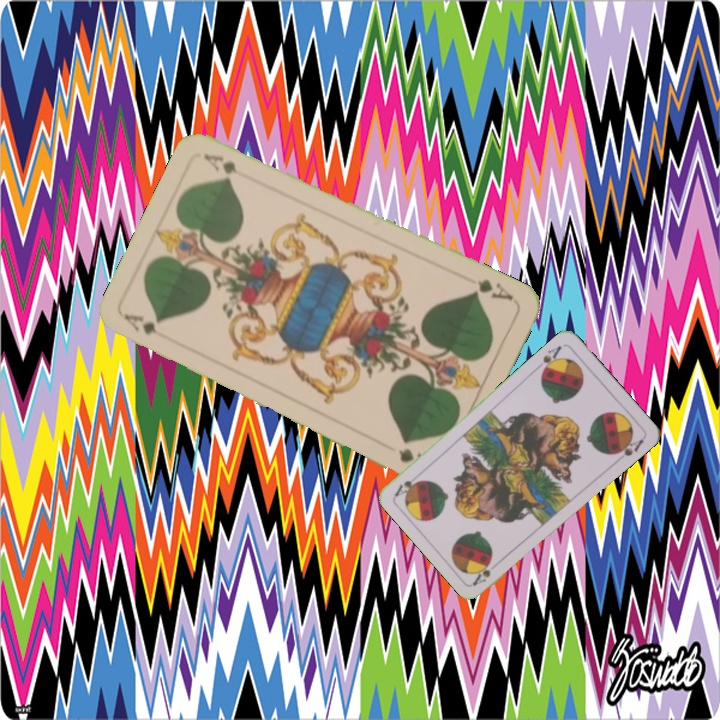GA: (120, 309, 175, 342), (468, 275, 516, 303)
SA: (537, 341, 564, 377), (469, 556, 495, 588)
